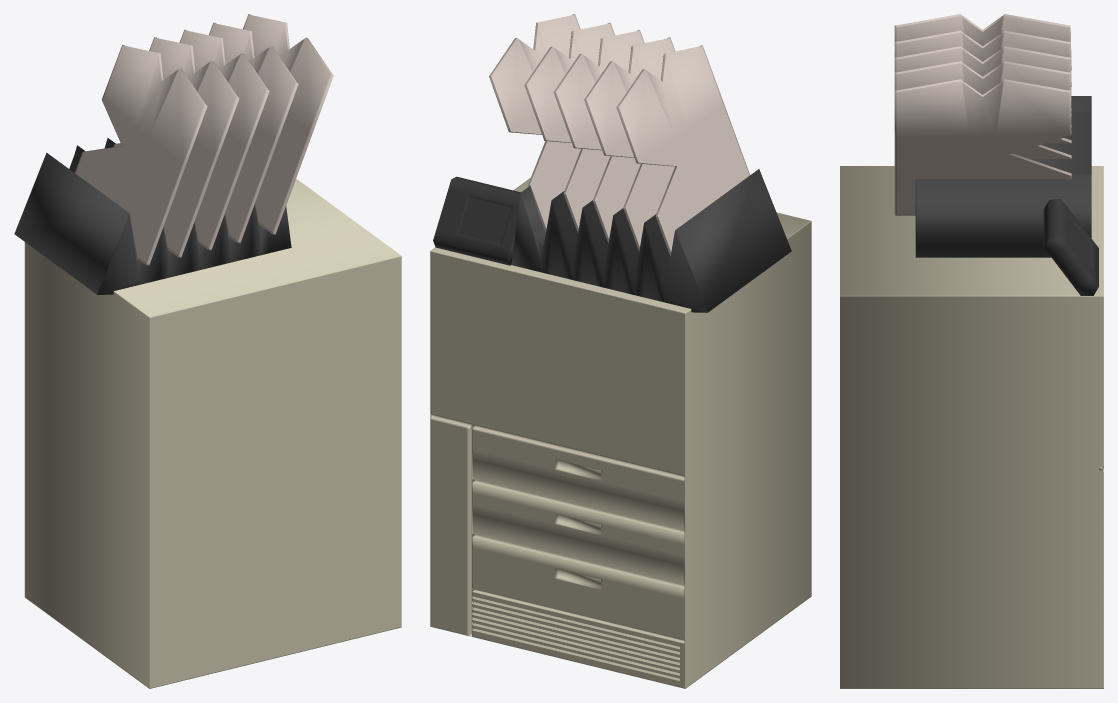
Rendered from Photocopier_2.fbx.
The picture shows the model from 3 angles, left to right: view 1: azimuth 30°, elevation 25°; view 2: azimuth 150°, elevation 25°; view 3: azimuth 270°, elevation 25°; orthographic projection. The views are drawn at different scales.
Visible parts, largest first — view 1: Photocopier_2, Cube_6, Cube_5, Cube.001, Cube_4, Cube_3, Cube_2; view 2: Photocopier_2, Cube_6, Cube_5, Cube.001, Cube_4, Cube_3, Cube_2, Cube_7; view 3: Photocopier_2, Cube.001, Cube_6, Cube_2, Cube_7, Cube_5, Cube_4, Cube_3.
Part boxes in pixels (x1,y1,x2,y2): Photocopier_2: (24,179,401,688); Cube_6: (14,138,291,294); Cube_5: (75,45,207,265); Cube.001: (243,14,333,234); Cube_4: (113,37,239,257); Cube_3: (179,29,269,250); Cube_2: (209,22,298,243); Photocopier_2: (430,178,811,688); Cube_6: (511,169,791,312); Cube_5: (616,45,749,256); Cube.001: (489,14,580,232); Cube_4: (584,37,675,251); Cube_3: (553,30,644,243); Cube_2: (524,22,615,232); Cube_7: (433,176,520,265); Photocopier_2: (840,166,1103,688); Cube.001: (894,79,1071,216); Cube_6: (915,96,1091,257); Cube_2: (894,61,1071,158); Cube_7: (1043,198,1098,295); Cube_5: (894,14,1071,111); Cube_4: (894,30,1071,127); Cube_3: (894,46,1071,143).
Size of the model in its own units: 0.7827 by 1.55 by 0.63.
